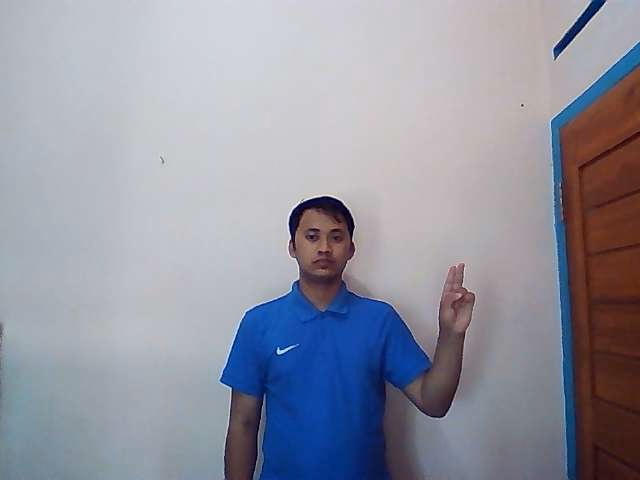U: (435, 264, 477, 332)
